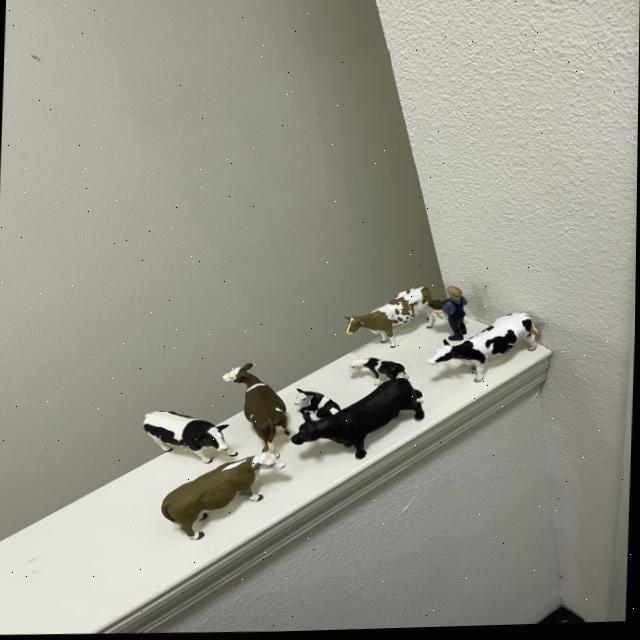cow: (156, 433, 296, 550), (287, 374, 433, 484), (423, 310, 546, 400), (340, 286, 443, 362), (223, 359, 301, 451), (138, 406, 245, 471), (348, 355, 409, 388), (293, 390, 343, 427), (427, 301, 447, 312)
person: (442, 288, 468, 342)
